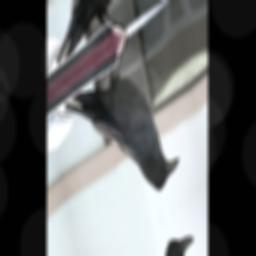Crow: (60, 14, 182, 247)
